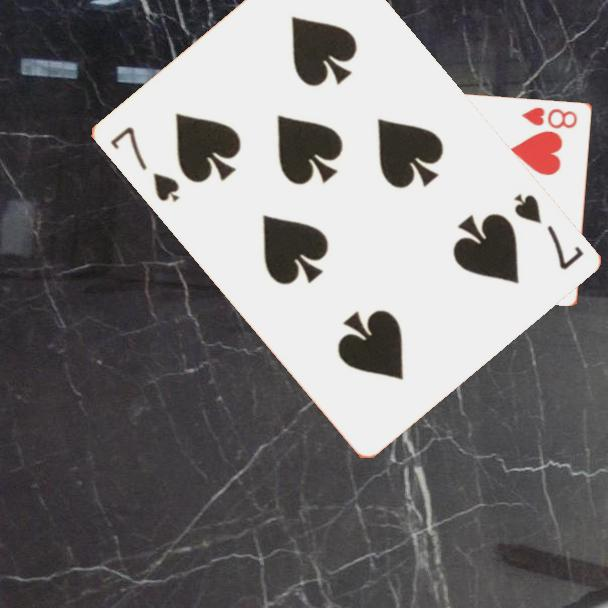h08: (519, 103, 580, 131)
s07: (510, 189, 587, 273), (106, 123, 182, 205)
